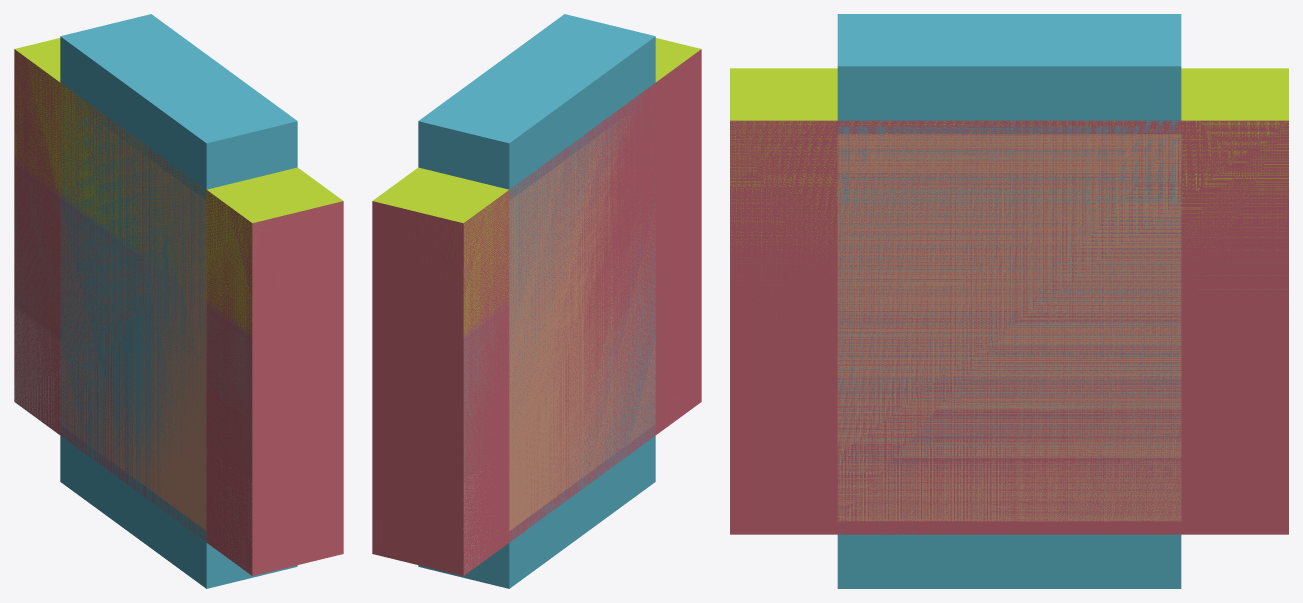
Rendered from Cloth.fbx.
The picture shows the model from 3 angles, left to right: view 1: azimuth 30°, elevation 25°; view 2: azimuth 150°, elevation 25°; view 3: azimuth 270°, elevation 25°; orthographic projection. The views are drawn at different scales.
Visible parts, largest first — view 1: Cloth_03, Cloth_02, Cloth_01, Cloth_04; view 2: Cloth_03, Cloth_02, Cloth_04, Cloth_01; view 3: Cloth_03, Cloth_04, Cloth_02, Cloth_01.
Part boxes in pixels (x1,y1,x2,y2): Cloth_03: (14, 49, 343, 575); Cloth_02: (60, 14, 297, 588); Cloth_01: (14, 38, 342, 574); Cloth_04: (60, 112, 206, 530); Cloth_03: (372, 49, 701, 575); Cloth_02: (418, 14, 655, 588); Cloth_04: (509, 112, 655, 530); Cloth_01: (373, 38, 700, 575); Cloth_03: (730, 120, 1288, 534); Cloth_04: (837, 134, 1181, 521); Cloth_02: (837, 14, 1181, 588); Cloth_01: (730, 68, 1288, 321).
Bounding box in the file's own units: 16.99 × 79.36 × 76.86.
